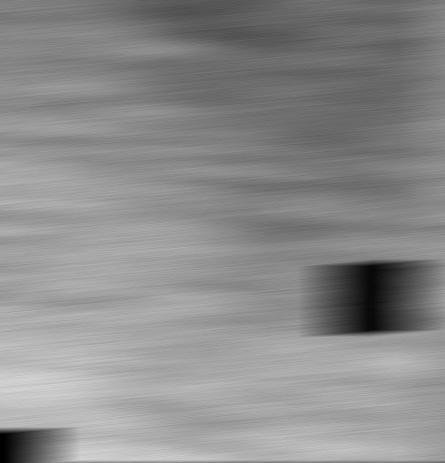Airbag: (0, 0, 444, 462), (425, 0, 445, 462)
